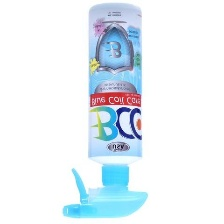cleaning_solution: (60, 0, 149, 222)
